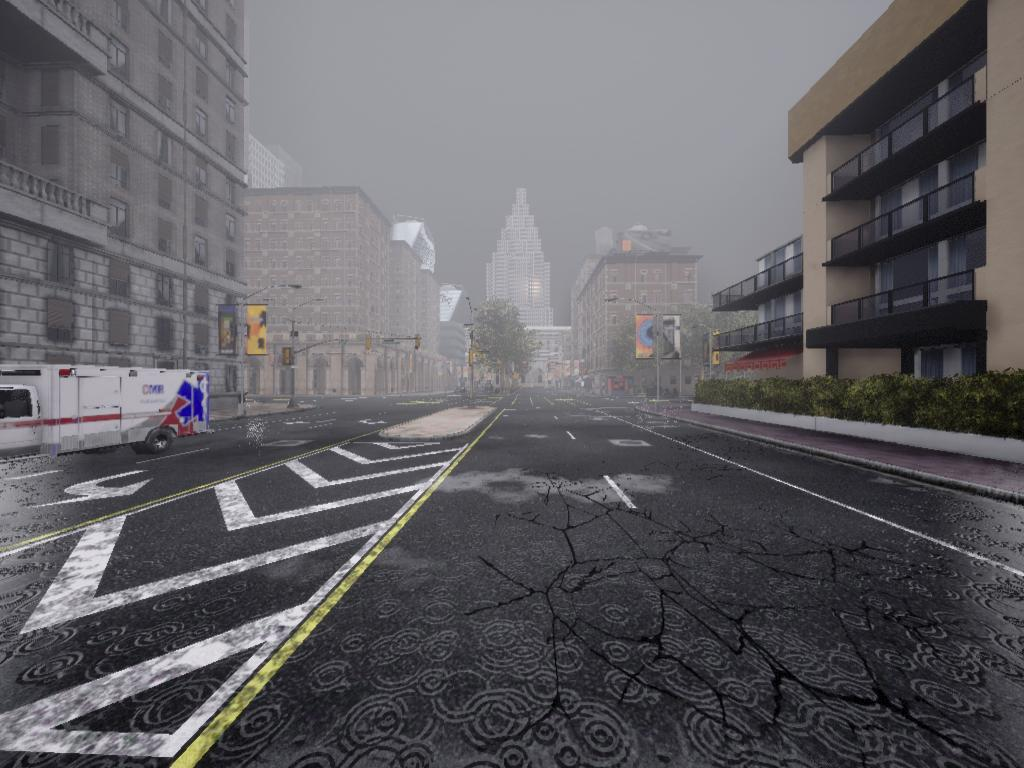traffic_light: (285, 349, 294, 366), (415, 335, 423, 349), (469, 348, 475, 366), (366, 336, 372, 352), (523, 362, 528, 372), (548, 362, 551, 374), (585, 369, 588, 379)
